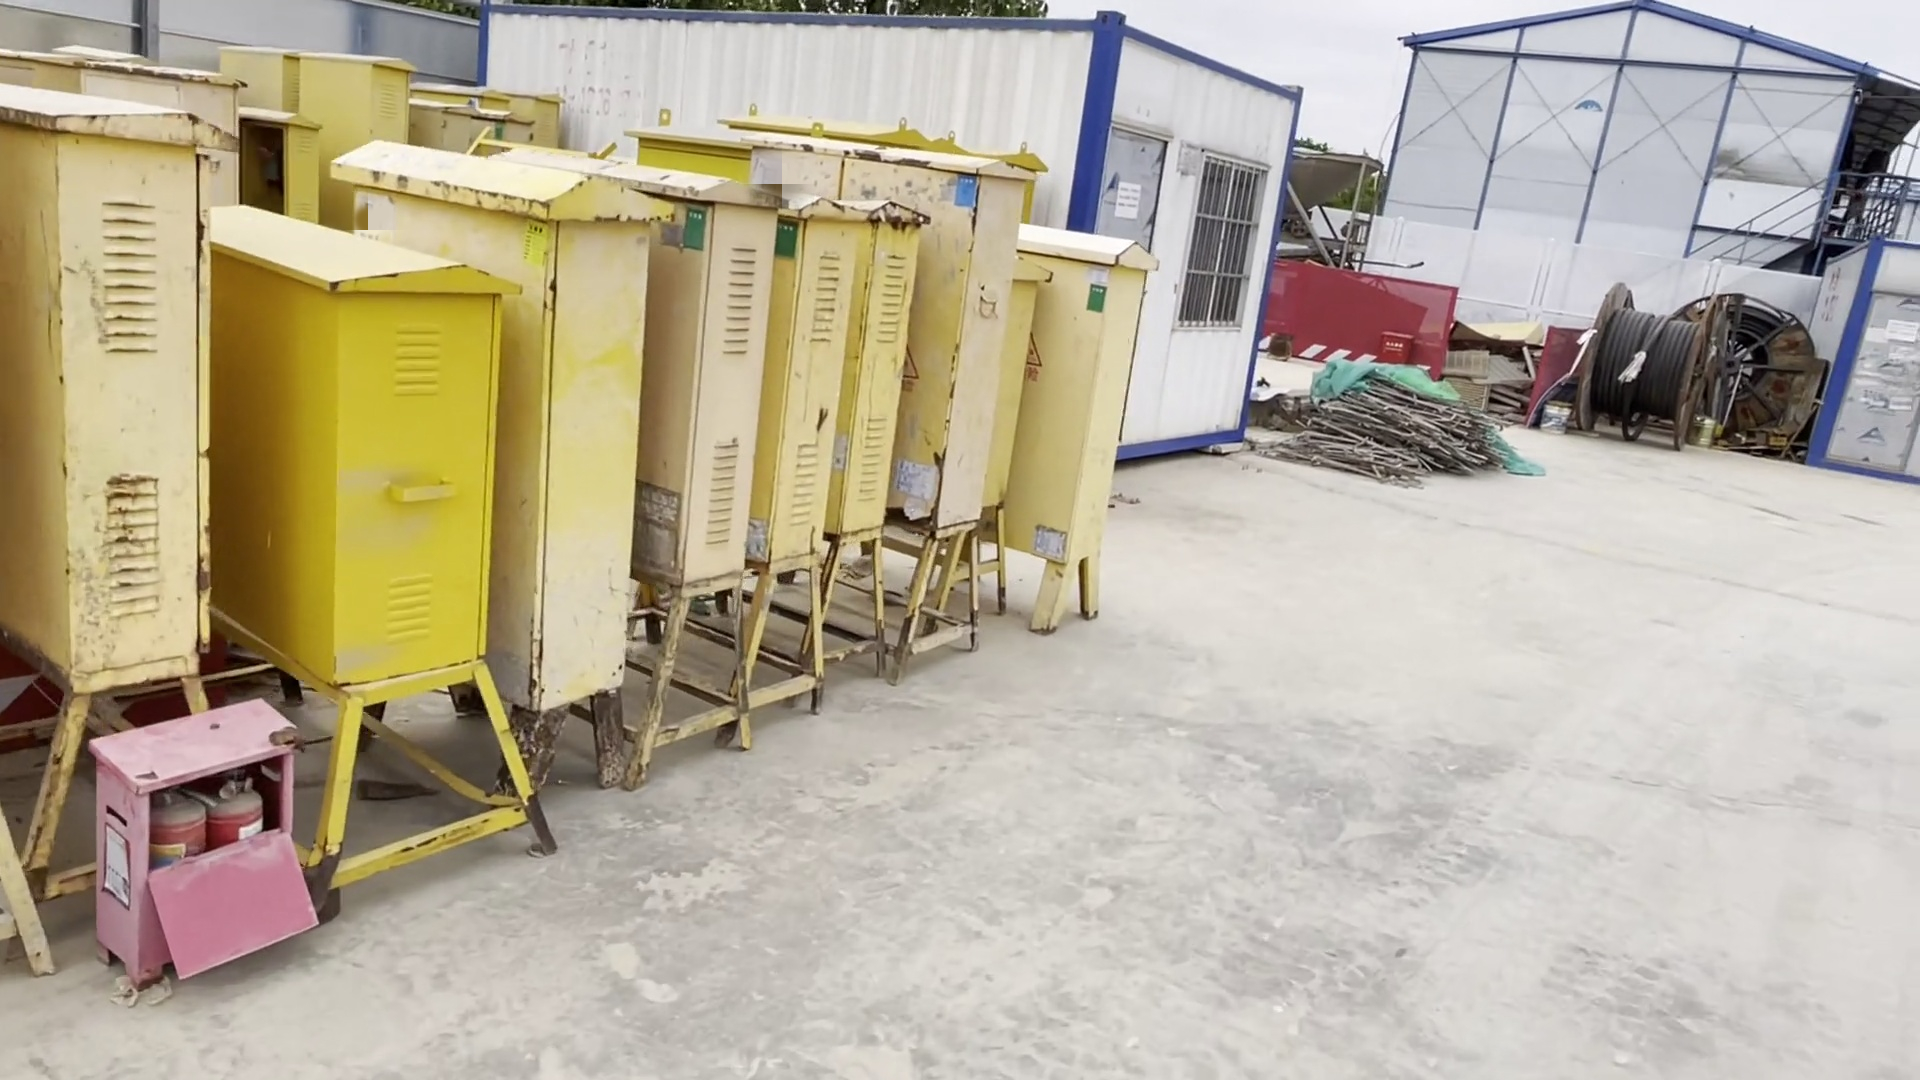ebox: (214, 186, 553, 895), (26, 87, 256, 924), (364, 149, 626, 789), (746, 127, 998, 657), (535, 157, 756, 745), (1021, 233, 1178, 633), (820, 200, 931, 682), (753, 200, 833, 731), (307, 47, 422, 182), (215, 38, 301, 98)
